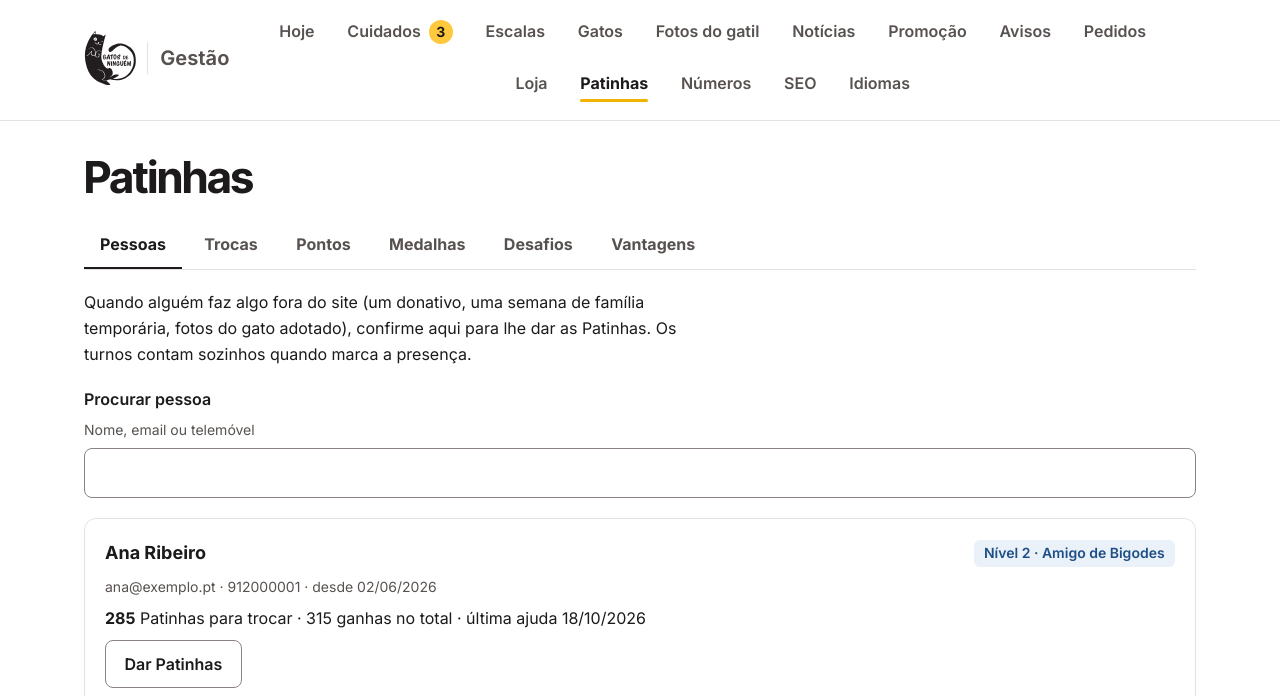
Patinhas › sets the Patinhas price and minimum level of a partner perk
The image size is (1280, 696).
Click the tab "Vantagens" at (653, 245), box [595,221,711,269]
(page scrolled)
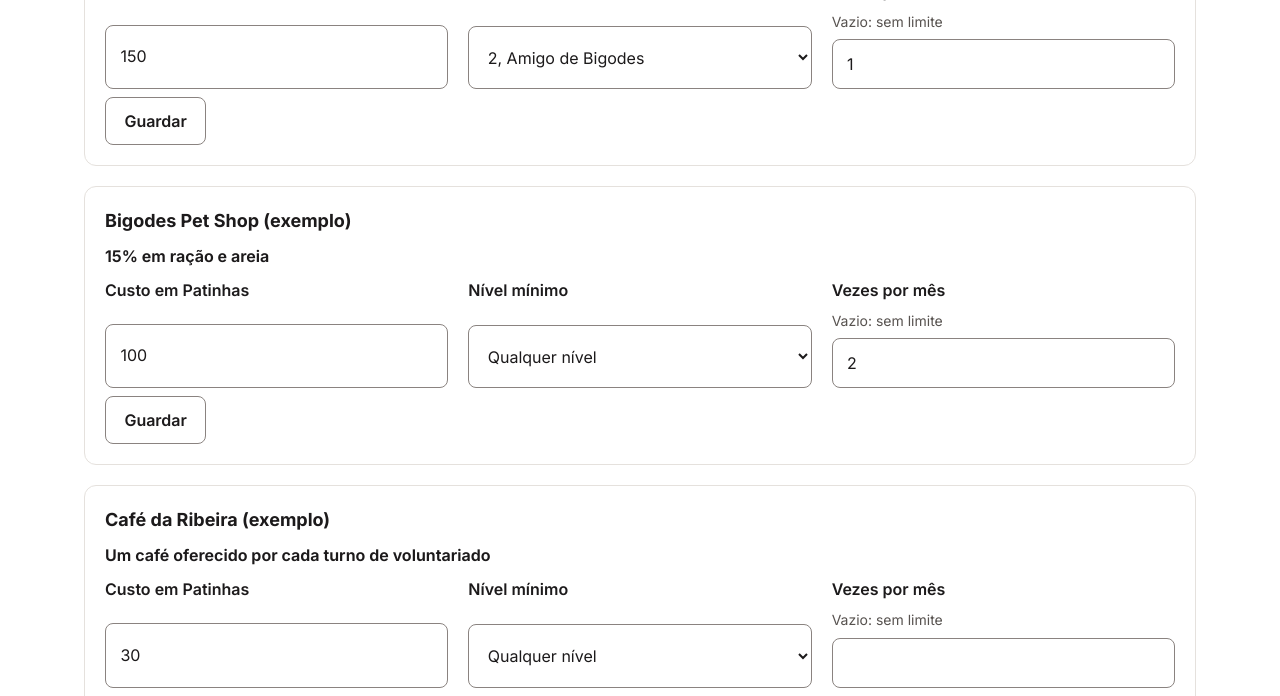
Replace the text in the field labelled "Custo em Patinhas" below "15% em ração e areia" with "120" at (277, 356), box [105,324,448,388]
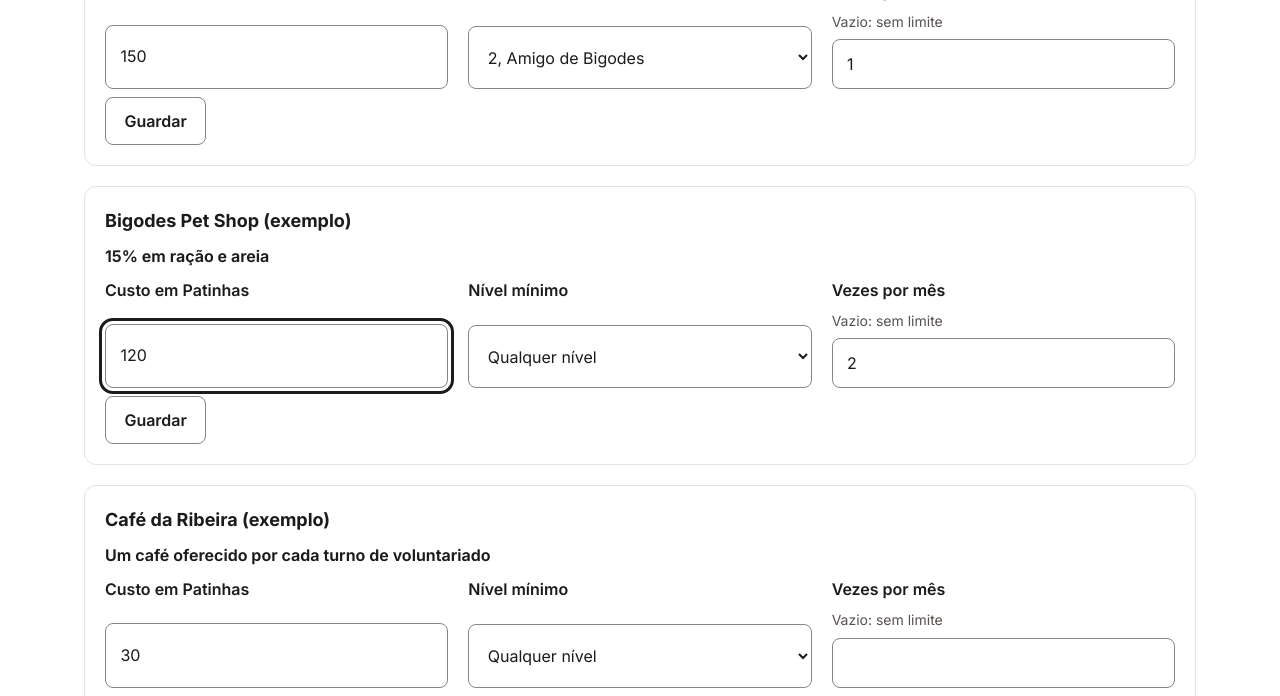
Select "3, Guardião da Colónia" in the dropdown labelled "Nível mínimo" below "15% em ração e areia" at (640, 357), box [468,325,812,388]
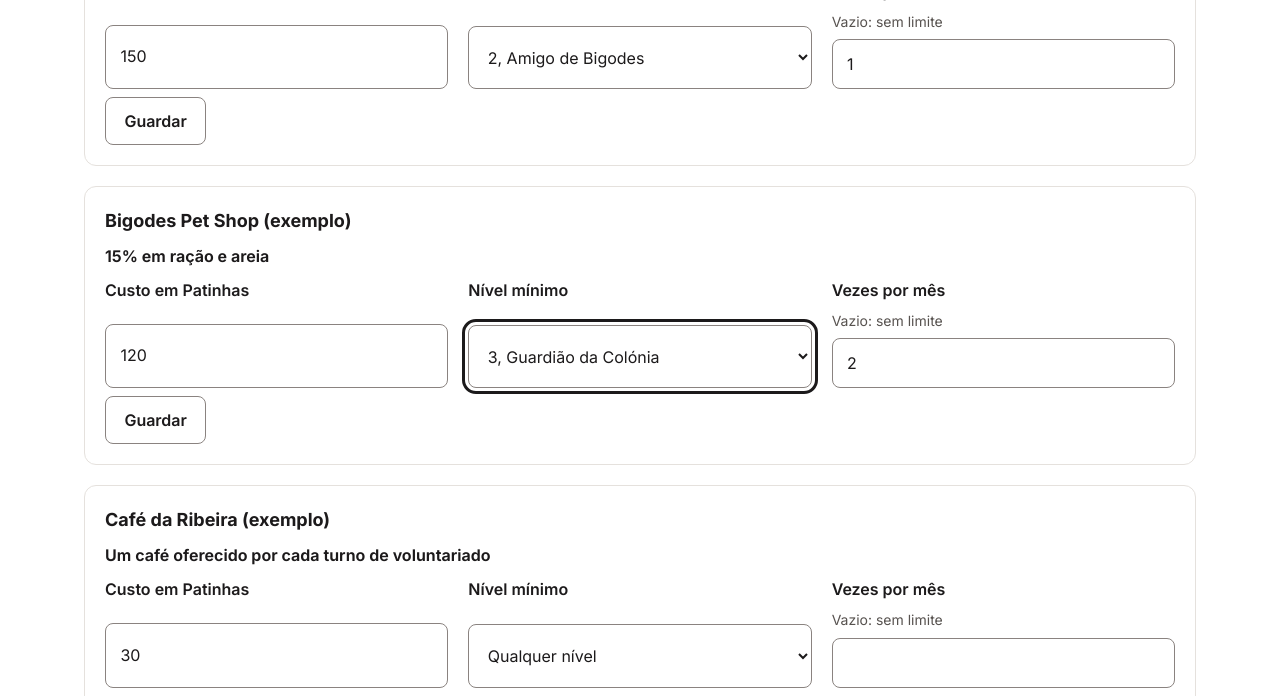
Click the button "Guardar" below "15% em ração e areia" at (156, 420), box [105,396,206,444]
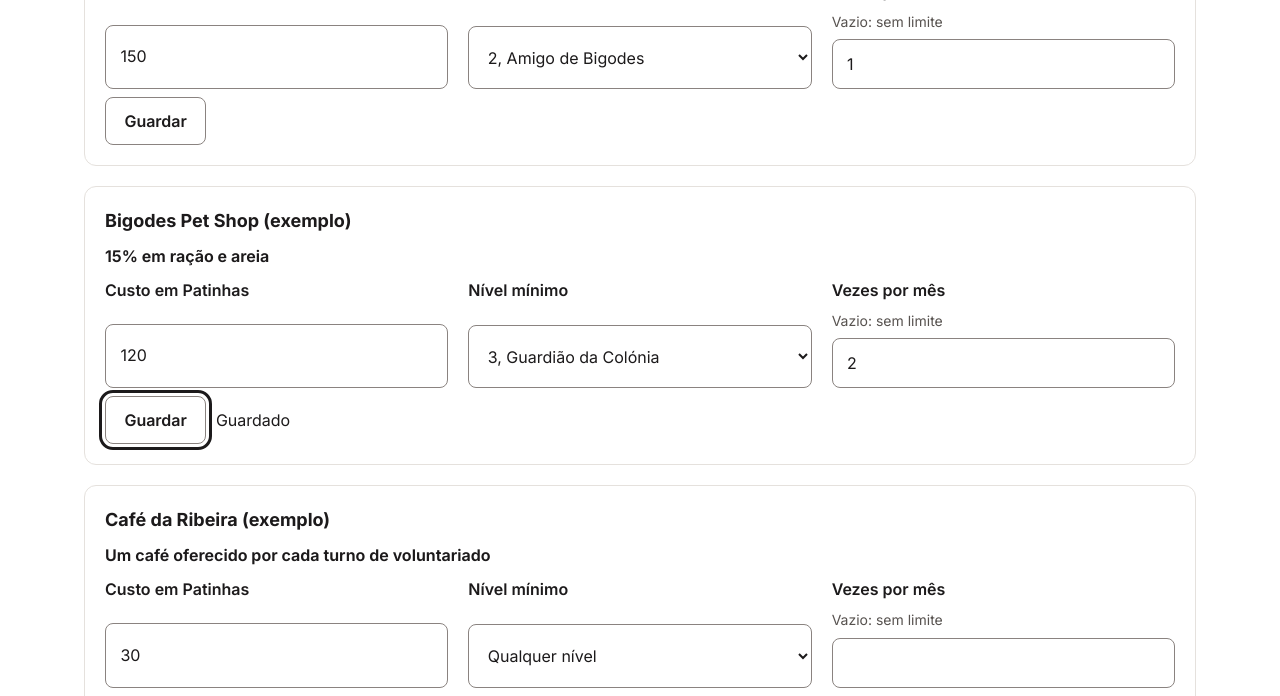
Now the text "Guardado" is shown, box [216,408,290,433]
